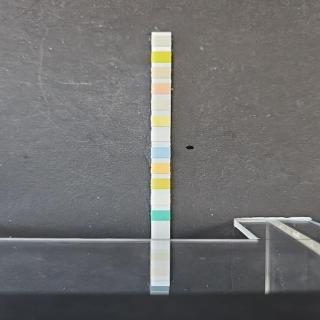mark: (150, 114, 170, 127), (151, 66, 171, 78), (152, 194, 170, 207), (152, 161, 170, 174), (152, 82, 170, 95), (152, 210, 170, 222), (152, 178, 170, 190), (152, 146, 170, 158), (152, 130, 170, 142), (152, 98, 170, 110), (152, 34, 170, 46), (152, 51, 170, 62)
